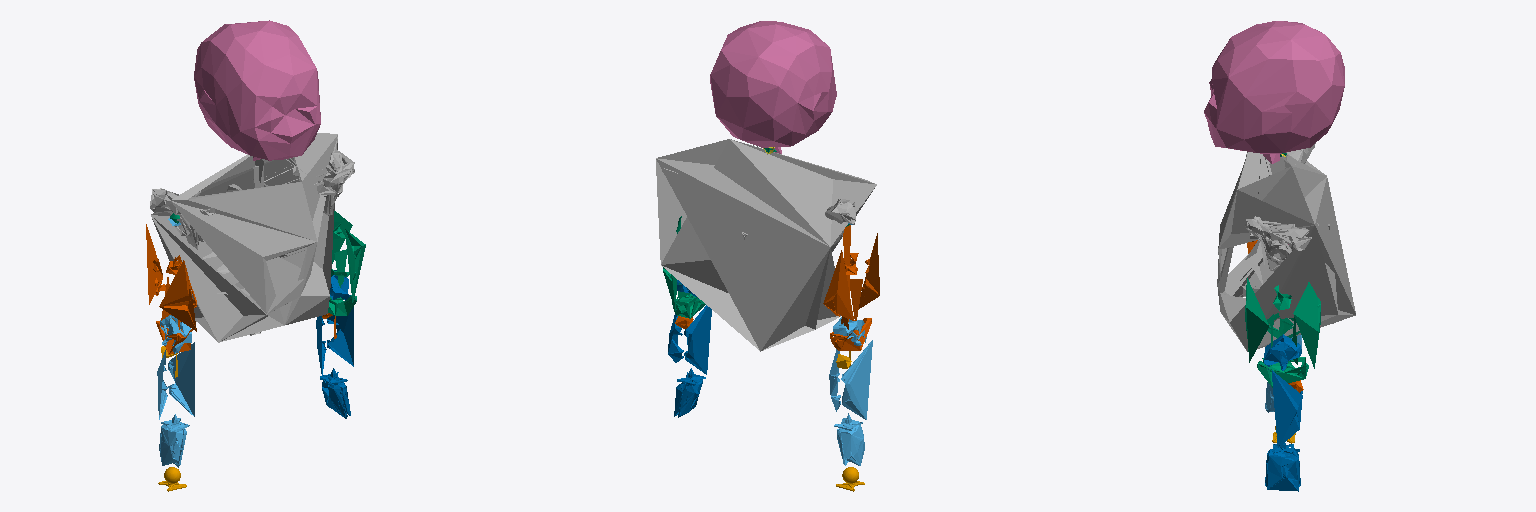
--- Facts derived from the render (not from the file) ---
The picture shows the robot from 3 angles, left to right: view 1: azimuth 30°, elevation 25°; view 2: azimuth 150°, elevation 25°; view 3: azimuth 270°, elevation 25°; orthographic projection.
Robot: upper_body — 20 links, 19 joints (19 revolute); root link torso; default pose: every joint at zero.
Links seen in each view (by area): view 1: torso, head, lowerarm_right, upperarm_right, lowerarm_left, upperarm_left; view 2: torso, head, lowerarm_right, upperarm_right, lowerarm_left, upperarm_left; view 3: torso, head, upperarm_left, lowerarm_left.
Link boxes in pixels (left/top/right/bottom): torso: left=150, top=133, right=354, bottom=342; head: left=194, top=20, right=320, bottom=160; lowerarm_right: left=157, top=315, right=194, bottom=467; upperarm_right: left=146, top=224, right=196, bottom=354; lowerarm_left: left=316, top=270, right=353, bottom=418; upperarm_left: left=328, top=211, right=365, bottom=315; torso: left=656, top=139, right=876, bottom=351; head: left=710, top=21, right=836, bottom=153; lowerarm_right: left=829, top=317, right=872, bottom=465; upperarm_right: left=823, top=225, right=879, bottom=350; lowerarm_left: left=668, top=280, right=711, bottom=417; upperarm_left: left=663, top=216, right=705, bottom=318; torso: left=1217, top=143, right=1355, bottom=351; head: left=1204, top=21, right=1344, bottom=163; upperarm_left: left=1245, top=278, right=1320, bottom=387; lowerarm_left: left=1264, top=334, right=1302, bottom=491.
Size in the robot's own frame: 0.567 by 0.3513 by 1.15 metres.
15 mesh visuals loaded from 20 distinct referenced files (15 binary STL); not drawn: 5 (reference not matched to a file when rendering).

The robot description file, URDF, robot "upper_body":
<robot name="upper_body">
  <joint name="shoulder_right_axis0" type="revolute">
    <parent link="torso" />
    <child link="shoulder_right_link1" />
    <origin rpy="0 0 0" xyz="-0.21017  0       0.69947" />
    <axis xyz="0.97437  0      -0.22495" />
    <limit effort="1.0" lower="-1.0" upper="0.3" velocity="10.0" />
  </joint>
  <joint name="shoulder_right_axis1" type="revolute">
    <parent link="shoulder_right_link1" />
    <child link="shoulder_right_link2" />
    <origin rpy="0 0 0" xyz="0 0 0" />
    <axis xyz="0 -1  0" />
    <limit effort="1.0" lower="-1.2" upper="0.0" velocity="10.0" />
  </joint>
  <joint name="shoulder_right_axis2" type="revolute">
    <parent link="shoulder_right_link2" />
    <child link="upperarm_right" />
    <origin rpy="0 0 0" xyz="0 0 0" />
    <axis xyz="-0.22495  0      -0.97437" />
    <limit effort="1.0" lower="0.0" upper="0.0" velocity="10.0" />
  </joint>
  <joint name="head_axis0" type="revolute">
    <parent link="torso" />
    <child link="head_link1" />
    <origin rpy="0 0 0" xyz="0      0      0.84075" />
    <axis xyz="1 0 0" />
    <limit effort="1.0" lower="-0.6" upper="0.6" velocity="10.0" />
  </joint>
  <joint name="head_axis1" type="revolute">
    <parent link="head_link1" />
    <child link="head_link2" />
    <origin rpy="0 0 0" xyz="0 0 0" />
    <axis xyz="0  0 -1" />
    <limit effort="1.0" lower="-0.56" upper="0.56" velocity="10.0" />
  </joint>
  <joint name="head_axis2" type="revolute">
    <parent link="head_link2" />
    <child link="head" />
    <origin rpy="0 0 0" xyz="0 0 0" />
    <axis xyz="0 1 0" />
    <limit effort="1.0" lower="-0.6" upper="0.6" velocity="10.0" />
  </joint>
  <joint name="wrist_right_axis0" type="revolute">
    <parent link="lowerarm_right" />
    <child link="wrist_right_link1" />
    <origin rpy="0 0 0" xyz="-0.00616  0      -0.21039" />
    <axis xyz="1 0 0" />
    <limit effort="1.0" lower="0.0" upper="0.0" velocity="10.0" />
  </joint>
  <joint name="wrist_right_axis1" type="revolute">
    <parent link="wrist_right_link1" />
    <child link="wrist_right_link2" />
    <origin rpy="0 0 0" xyz="0 0 0" />
    <axis xyz="0 -1  0" />
    <limit effort="1.0" lower="0.0" upper="0.0" velocity="10.0" />
  </joint>
  <joint name="wrist_right_axis2" type="revolute">
    <parent link="wrist_right_link2" />
    <child link="hand_right" />
    <origin rpy="0 0 0" xyz="0 0 0" />
    <axis xyz="0  0 -1" />
    <limit effort="1.0" lower="0.0" upper="0.0" velocity="10.0" />
  </joint>
  <joint name="wrist_left_axis0" type="revolute">
    <parent link="lowerarm_left" />
    <child link="wrist_left_link1" />
    <origin rpy="0 0 0" xyz="-0.00073  0      -0.21039" />
    <axis xyz="1 0 0" />
    <limit effort="1.0" lower="0.0" upper="0.0" velocity="10.0" />
  </joint>
  <joint name="wrist_left_axis1" type="revolute">
    <parent link="wrist_left_link1" />
    <child link="wrist_left_link2" />
    <origin rpy="0 0 0" xyz="0 0 0" />
    <axis xyz="0 1 0" />
    <limit effort="1.0" lower="0.0" upper="0.0" velocity="10.0" />
  </joint>
  <joint name="wrist_left_axis2" type="revolute">
    <parent link="wrist_left_link2" />
    <child link="hand_left" />
    <origin rpy="0 0 0" xyz="0 0 0" />
    <axis xyz="0 0 1" />
    <limit effort="1.0" lower="0.0" upper="0.0" velocity="10.0" />
  </joint>
  <joint name="shoulder_left_axis0" type="revolute">
    <parent link="torso" />
    <child link="shoulder_left_link1" />
    <origin rpy="0 0 0" xyz="0.21017 0      0.69947" />
    <axis xyz="0.97437 0      0.22495" />
    <limit effort="1.0" lower="-1.0" upper="0.3" velocity="10.0" />
  </joint>
  <joint name="shoulder_left_axis1" type="revolute">
    <parent link="shoulder_left_link1" />
    <child link="shoulder_left_link2" />
    <origin rpy="0 0 0" xyz="0 0 0" />
    <axis xyz="0 1 0" />
    <limit effort="1.0" lower="-1.2" upper="0.0" velocity="10.0" />
  </joint>
  <joint name="shoulder_left_axis2" type="revolute">
    <parent link="shoulder_left_link2" />
    <child link="upperarm_left" />
    <origin rpy="0 0 0" xyz="0 0 0" />
    <axis xyz="-0.22495  0       0.97437" />
    <limit effort="1.0" lower="0.0" upper="0.0" velocity="10.0" />
  </joint>
  <joint name="elbow_right_axis1" type="revolute">
    <parent link="elbow_right" />
    <child link="lowerarm_right" />
    <origin rpy="0 0 0" xyz="0.00042  0      -0.09" />
    <axis xyz="-1 0 0" />
    <limit effort="1.0" upper="0.73" lower="0.0" velocity="10.0" />
  </joint>
  <joint name="elbow_right_axis0" type="revolute">
    <parent link="upperarm_right" />
    <child link="elbow_right" />
    <origin rpy="0 0 0" xyz="-0.00106  0      -0.31208" />
    <axis xyz="-1  0  0" />
    <limit effort="1.0" lower="0.0" upper="0.73" velocity="10.0" />
  </joint>
  <joint name="elbow_left_axis0" type="revolute">
    <parent link="upperarm_left" />
    <child link="elbow_left" />
    <origin rpy="0 0 0" xyz="0.00906  0      -0.31208" />
    <axis xyz="-1  0  0" />
    <limit effort="1.0" lower="0.0" upper="0.73" velocity="10.0" />
  </joint>
  <joint name="elbow_left_axis1" type="revolute">
    <parent link="elbow_left" />
    <child link="lowerarm_left" />
    <origin rpy="0 0 0" xyz="-0.0015  0     -0.09" />
    <axis xyz="-1  0  0" />
    <limit effort="1.0" lower="0.0" upper="0.73" velocity="10.0" />
  </joint>

  <!--<joint name="camera_left" type="fixed">-->
  <!--<parent link="head" />-->
  <!--<child link="camera_left" />-->
  <!--<origin rpy="0 0 0" xyz="0.03 -0.137 0.203" />-->
  <!--<axis xyz="1  0  0" />-->
  <!--</joint>-->
  <!--<joint name="camera_right" type="fixed">-->
  <!--<parent link="head" />-->
  <!--<child link="camera_right" />-->
  <!--<origin rpy="0 0 0" xyz="-0.03 -0.137 0.203" />-->
  <!--<axis xyz="1  0  0" />-->
  <!--</joint>-->

  <!--<transmission name="tran1">-->
  <!--<type>transmission_interface/SimpleTransmission</type>-->
  <!--<joint name="head_axis0">-->
  <!--<hardwareInterface>hardware_interface/EffortJointInterface</hardwareInterface>-->
  <!--</joint>-->
  <!--<actuator name="motor1">-->
  <!--<hardwareInterface>hardware_interface/EffortJointInterface</hardwareInterface>-->
  <!--<mechanicalReduction>1</mechanicalReduction>-->
  <!--</actuator>-->
  <!--</transmission>-->

  <!--<transmission name="tran2">-->
  <!--<type>transmission_interface/SimpleTransmission</type>-->
  <!--<joint name="head_axis1">-->
  <!--<hardwareInterface>hardware_interface/EffortJointInterface</hardwareInterface>-->
  <!--</joint>-->
  <!--<actuator name="motor2">-->
  <!--<hardwareInterface>hardware_interface/EffortJointInterface</hardwareInterface>-->
  <!--<mechanicalReduction>1</mechanicalReduction>-->
  <!--</actuator>-->
  <!--</transmission>-->

  <!--<transmission name="tran3">-->
  <!--<type>transmission_interface/SimpleTransmission</type>-->
  <!--<joint name="head_axis2">-->
  <!--<hardwareInterface>hardware_interface/EffortJointInterface</hardwareInterface>-->
  <!--</joint>-->
  <!--<actuator name="motor3">-->
  <!--<hardwareInterface>hardware_interface/EffortJointInterface</hardwareInterface>-->
  <!--<mechanicalReduction>1</mechanicalReduction>-->
  <!--</actuator>-->
  <!--</transmission>-->
  <link name="hand_right">
    <inertial>
      <mass value="0.7514923831884623" />
      <origin rpy="0 0 0" xyz="-0.00506  0.00106 -0.06163" />
      <inertia ixx="0.00329642178906037" ixy="0.0002152027426110002" ixz="0.00414519741777471" iyy="0.040151355516369454" iyz="5.779025691769195e-06" izz="0.03751229870240237" />
    </inertial>
    <collision name="hand_right_collision">
      <origin rpy="0 0 0" xyz="-0.00506  0.00106 -0.06163" />
      <geometry>
        <mesh filename="package://robots/upper_body/meshes/collisions/hand_right.stl" scale="0.001 0.001 0.001" />
      </geometry>
    </collision>
    <visual name="hand_right_visual">
      <origin rpy="0 0 0" xyz="-0.00506  0.00106 -0.06163" />
      <geometry>
        <mesh filename="package://robots/upper_body/meshes/visuals/hand_right.stl" scale="0.001 0.001 0.001" />
      </geometry>
    </visual>
  </link>
  <link name="lowerarm_right">
    <inertial>
      <mass value="0.5917876637421493" />
      <origin rpy="0 0 0" xyz="-0.00733 -0.00117 -0.11185" />
      <inertia ixx="0.025266093053321618" ixy="-0.00014339118944252453" ixz="0.02401182953031049" iyy="0.05347049319194963" iyz="0.00020339489462638876" izz="0.02883407069587139" />
    </inertial>
    <collision name="lowerarm_right_collision">
      <origin rpy="0 0 0" xyz="-0.00733 -0.00117 -0.11185" />
      <geometry>
        <mesh filename="package://robots/upper_body/meshes/collisions/lowerarm_right.stl" scale="0.001 0.001 0.001" />
      </geometry>
    </collision>
    <visual name="lowerarm_right_visual">
      <origin rpy="0 0 0" xyz="-0.00733 -0.00117 -0.11185" />
      <geometry>
        <mesh filename="package://robots/upper_body/meshes/visuals/lowerarm_right.stl" scale="0.001 0.001 0.001" />
      </geometry>
    </visual>
  </link>
  <link name="upperarm_left">
    <inertial>
      <mass value="0.6793810152872208" />
      <origin rpy="0 0 0" xyz="0.01104  0.00134 -0.18587" />
      <inertia ixx="0.18978590848989427" ixy="-0.00020381676007052703" ixz="-0.0771493215460898" iyy="0.22219285048351112" iyz="-0.00048014462260051406" izz="0.034641097561777544" />
    </inertial>
    <collision name="upperarm_left_collision">
      <origin rpy="0 0 0" xyz="0.01104  0.00134 -0.18587" />
      <geometry>
        <mesh filename="package://robots/upper_body/meshes/collisions/upperarm_left.stl" scale="0.001 0.001 0.001" />
      </geometry>
    </collision>
    <visual name="upperarm_left_visual">
      <origin rpy="0 0 0" xyz="0.01104  0.00134 -0.18587" />
      <geometry>
        <mesh filename="package://robots/upper_body/meshes/visuals/upperarm_left.stl" scale="0.001 0.001 0.001" />
      </geometry>
    </visual>
  </link>
  <link name="hand_left">
    <inertial>
      <mass value="0.7514925489985023" />
      <origin rpy="0 0 0" xyz="0.00506  0.00106 -0.06163" />
      <inertia ixx="0.003296422481405665" ixy="-0.000215224109805972" ixz="-0.004145710073447077" iyy="0.0401603001987594" iyz="5.779043768172425e-06" izz="0.03752124270591726" />
    </inertial>
    <collision name="hand_left_collision">
      <origin rpy="0 0 0" xyz="0.00506  0.00106 -0.06163" />
      <geometry>
        <mesh filename="package://robots/upper_body/meshes/collisions/hand_left.stl" scale="0.001 0.001 0.001" />
      </geometry>
    </collision>
    <visual name="hand_left_visual">
      <origin rpy="0 0 0" xyz="0.00506  0.00106 -0.06163" />
      <geometry>
        <mesh filename="package://robots/upper_body/meshes/visuals/hand_left.stl" scale="0.001 0.001 0.001" />
      </geometry>
    </visual>
  </link>
  <link name="lowerarm_left">
    <inertial>
      <mass value="0.4831137845041076" />
      <origin rpy="0 0 0" xyz="0.00049 -0.00129 -0.09306" />
      <inertia ixx="0.024158444781384562" ixy="0.00012820759060466918" ixz="-0.02159885035361162" iyy="0.04720250767947627" iyz="0.00019696815911384214" izz="0.02362176591875769" />
    </inertial>
    <collision name="lowerarm_left_collision">
      <origin rpy="0 0 0" xyz="0.00049 -0.00129 -0.09306" />
      <geometry>
        <mesh filename="package://robots/upper_body/meshes/collisions/lowerarm_left.stl" scale="0.001 0.001 0.001" />
      </geometry>
    </collision>
    <visual name="lowerarm_left_visual">
      <origin rpy="0 0 0" xyz="0.00049 -0.00129 -0.09306" />
      <geometry>
        <mesh filename="package://robots/upper_body/meshes/visuals/lowerarm_left.stl" scale="0.001 0.001 0.001" />
      </geometry>
    </visual>
  </link>
  <link name="upperarm_right">
    <inertial>
      <mass value="0.6628658945679491" />
      <origin rpy="0 0 0" xyz="-0.01115  0.00138 -0.17499" />
      <inertia ixx="0.18968787262556008" ixy="0.00020382119259871294" ixz="0.07687427496899825" iyy="0.22131713020188437" iyz="-0.00048015612471741167" izz="0.033863143154471184" />
    </inertial>
    <collision name="upperarm_right_collision">
      <origin rpy="0 0 0" xyz="-0.01115  0.00138 -0.17499" />
      <geometry>
        <mesh filename="package://robots/upper_body/meshes/collisions/upperarm_right.stl" scale="0.001 0.001 0.001" />
      </geometry>
    </collision>
    <visual name="upperarm_right_visual">
      <origin rpy="0 0 0" xyz="-0.01115  0.00138 -0.17499" />
      <geometry>
        <mesh filename="package://robots/upper_body/meshes/visuals/upperarm_right.stl" scale="0.001 0.001 0.001" />
      </geometry>
    </visual>
  </link>
  <link name="head">
    <inertial>
      <mass value="2.1598514080281315" />
      <origin rpy="0 0 0" xyz="-0.0002  -0.01814  0.1557" />
      <inertia ixx="2.1559773436970113" ixy="2.323405580889926e-05" ixz="0.0004164361828475648" iyy="2.1576901383913416" iyz="0.03738915961197302" izz="0.02811964967375591" />
    </inertial>
    <collision name="head_collision">
      <origin rpy="0 0 0" xyz="-0.0002  -0.01814  0.1557" />
      <geometry>
        <mesh filename="package://robots/upper_body/meshes/collisions/head.stl" scale="0.001 0.001 0.001" />
      </geometry>
    </collision>
    <visual name="head_visual">
      <origin rpy="0 0 0" xyz="-0.0002  -0.01814  0.1557" />
      <geometry>
        <mesh filename="package://robots/upper_body/meshes/visuals/head.stl" scale="0.001 0.001 0.001" />
      </geometry>
    </visual>
  </link>
  <link name="torso">
    <inertial>
      <mass value="25.160471303342216" />
      <origin rpy="0 0 0" xyz="0.00776 0.00282 0.62658" />
      <inertia ixx="10.398585859477636" ixy="0.00015013373897767912" ixz="-0.10586365499644151" iyy="10.58255768903264" iyz="-0.05807739632925058" izz="0.4658890640245697" />
    </inertial>
    <collision name="torso_collision">
      <origin rpy="0 0 0" xyz="0.00776 0.00282 0.62658" />
      <geometry>
        <mesh filename="package://robots/upper_body/meshes/collisions/torso.stl" scale="0.001 0.001 0.001" />
      </geometry>
    </collision>
    <visual name="torso_visual">
      <origin rpy="0 0 0" xyz="0.00776 0.00282 0.62658" />
      <geometry>
        <mesh filename="package://robots/upper_body/meshes/visuals/torso.stl" scale="0.001 0.001 0.001" />
      </geometry>
    </visual>
  </link>
  <link name="elbow_right">
    <inertial>
      <mass value="0.035913480602683866" />
      <origin rpy="0 0 0" xyz="-0.00474  0.03025 -0.04463" />
      <inertia ixx="0.004274453667256835" ixy="0.00023607548638453937" ixz="0.002658593224303575" iyy="0.005909490039237715" iyz="-0.0003724752910205753" izz="0.0017216986311418606" />
    </inertial>
    <collision name="elbow_right_collision">
      <origin rpy="0 0 0" xyz="-0.00474  0.03025 -0.04463" />
      <geometry>
        <mesh filename="package://robots/upper_body/meshes/collisions/elbow_right.stl" scale="0.001 0.001 0.001" />
      </geometry>
    </collision>
    <visual name="elbow_right_visual">
      <origin rpy="0 0 0" xyz="-0.00474  0.03025 -0.04463" />
      <geometry>
        <mesh filename="package://robots/upper_body/meshes/visuals/elbow_right.stl" scale="0.001 0.001 0.001" />
      </geometry>
    </visual>
  </link>
  <link name="shoulder_right_link1">
    <inertial>
      <mass value="0.09036362653441246" />
      <origin rpy="0 0 0" xyz="0 0 0" />
      <inertia ixx="0.04421931675263708" ixy="3.626265954181918e-18" ixz="0.01328454638864534" iyy="0.04821095418145326" iyz="-1.2045919817182948e-17" izz="0.003998729023415919" />
    </inertial>
    <collision name="shoulder_right_link1_collision">
      <origin rpy="0 0 0" xyz="0 0 0" />
      <geometry>
        <mesh filename="package://robots/upper_body/meshes/collisions/shoulder_right_link1.stl" scale="0.001 0.001 0.001" />
      </geometry>
    </collision>
    <visual name="shoulder_right_link1_visual">
      <origin rpy="0 0 0" xyz="0 0 0" />
      <geometry>
        <mesh filename="package://robots/upper_body/meshes/visuals/shoulder_right_link1.stl" scale="0.001 0.001 0.001" />
      </geometry>
    </visual>
  </link>
  <link name="shoulder_right_link2">
    <inertial>
      <mass value="0.007113171768014983" />
      <origin rpy="0 0 0" xyz="0 0 0" />
      <inertia ixx="0.0034803651538984483" ixy="2.808517307606451e-19" ixz="0.0010457223104764577" iyy="0.0037945756803650283" iyz="-9.325873406851316e-19" izz="0.0003143130585953205" />
    </inertial>
    <collision name="shoulder_right_link2_collision">
      <origin rpy="0 0 0" xyz="0 0 0" />
      <geometry>
        <mesh filename="package://robots/upper_body/meshes/collisions/shoulder_right_link2.stl" scale="0.001 0.001 0.001" />
      </geometry>
    </collision>
    <visual name="shoulder_right_link2_visual">
      <origin rpy="0 0 0" xyz="0 0 0" />
      <geometry>
        <mesh filename="package://robots/upper_body/meshes/visuals/shoulder_right_link2.stl" scale="0.001 0.001 0.001" />
      </geometry>
    </visual>
  </link>
  <link name="wrist_right_link1">
    <inertial>
      <mass value="0.03806502884740437" />
      <origin rpy="0 0 0" xyz="0 0 0" />
      <inertia ixx="0.00028979287111819324" ixy="1.061650767297806e-18" ixz="0.0007185410043660903" iyy="0.0020817946848411925" iyz="-4.250072516143178e-19" izz="0.0017936804814951703" />
    </inertial>
    <collision name="wrist_right_link1_collision">
      <origin rpy="0 0 0" xyz="0 0 0" />
      <geometry>
        <mesh filename="package://robots/upper_body/meshes/collisions/wrist_right_link1.stl" scale="0.001 0.001 0.001" />
      </geometry>
    </collision>
    <visual name="wrist_right_link1_visual">
      <origin rpy="0 0 0" xyz="0 0 0" />
      <geometry>
        <mesh filename="package://robots/upper_body/meshes/visuals/wrist_right_link1.stl" scale="0.001 0.001 0.001" />
      </geometry>
    </visual>
  </link>
  <link name="wrist_right_link2">
    <inertial>
      <mass value="0.002996372533177606" />
      <origin rpy="0 0 0" xyz="0 0 0" />
      <inertia ixx="2.2703814321141537e-05" ixy="8.278967789099312e-20" ixz="5.656153678683516e-05" iyy="0.0001637651815821358" iyz="-3.315490243460673e-20" izz="0.000141085637878513" />
    </inertial>
    <collision name="wrist_right_link2_collision">
      <origin rpy="0 0 0" xyz="0 0 0" />
      <geometry>
        <mesh filename="package://robots/upper_body/meshes/collisions/wrist_right_link2.stl" scale="0.001 0.001 0.001" />
      </geometry>
    </collision>
    <visual name="wrist_right_link2_visual">
      <origin rpy="0 0 0" xyz="0 0 0" />
      <geometry>
        <mesh filename="package://robots/upper_body/meshes/visuals/wrist_right_link2.stl" scale="0.001 0.001 0.001" />
      </geometry>
    </visual>
  </link>
  <link name="elbow_left">
    <inertial>
      <mass value="0.03591352060165305" />
      <origin rpy="0 0 0" xyz="-0.00325  0.03025 -0.04463" />
      <inertia ixx="0.004274458918966475" ixy="-0.00023607544149196254" ixz="-0.002658629464100515" iyy="0.0059095370580604595" iyz="-0.000372475167922204" izz="0.0017217402510529421" />
    </inertial>
    <collision name="elbow_left_collision">
      <origin rpy="0 0 0" xyz="-0.00325  0.03025 -0.04463" />
      <geometry>
        <mesh filename="package://robots/upper_body/meshes/collisions/elbow_left.stl" scale="0.001 0.001 0.001" />
      </geometry>
    </collision>
    <visual name="elbow_left_visual">
      <origin rpy="0 0 0" xyz="-0.00325  0.03025 -0.04463" />
      <geometry>
        <mesh filename="package://robots/upper_body/meshes/visuals/elbow_left.stl" scale="0.001 0.001 0.001" />
      </geometry>
    </visual>
  </link>
  <link name="shoulder_left_link1">
    <inertial>
      <mass value="0.09036362653441248" />
      <origin rpy="0 0 0" xyz="0 0 0" />
      <inertia ixx="0.044219316752637086" ixy="-3.6290415117434806e-18" ixz="-0.013284546388645343" iyy="0.04821095418145326" iyz="-1.2079226507921704e-17" izz="0.003998729023415921" />
    </inertial>
    <collision name="shoulder_left_link1_collision">
      <origin rpy="0 0 0" xyz="0 0 0" />
      <geometry>
        <mesh filename="package://robots/upper_body/meshes/collisions/shoulder_left_link1.stl" scale="0.001 0.001 0.001" />
      </geometry>
    </collision>
    <visual name="shoulder_left_link1_visual">
      <origin rpy="0 0 0" xyz="0 0 0" />
      <geometry>
        <mesh filename="package://robots/upper_body/meshes/visuals/shoulder_left_link1.stl" scale="0.001 0.001 0.001" />
      </geometry>
    </visual>
  </link>
  <link name="shoulder_left_link2">
    <inertial>
      <mass value="0.007113171768014981" />
      <origin rpy="0 0 0" xyz="0 0 0" />
      <inertia ixx="0.003480365153898447" ixy="-2.8206603719382882e-19" ixz="-0.0010457223104764577" iyy="0.003794575680365027" iyz="-9.370976217226712e-19" izz="0.0003143130585953206" />
    </inertial>
    <collision name="shoulder_left_link2_collision">
      <origin rpy="0 0 0" xyz="0 0 0" />
      <geometry>
        <mesh filename="package://robots/upper_body/meshes/collisions/shoulder_left_link2.stl" scale="0.001 0.001 0.001" />
      </geometry>
    </collision>
    <visual name="shoulder_left_link2_visual">
      <origin rpy="0 0 0" xyz="0 0 0" />
      <geometry>
        <mesh filename="package://robots/upper_body/meshes/visuals/shoulder_left_link2.stl" scale="0.001 0.001 0.001" />
      </geometry>
    </visual>
  </link>
  <link name="wrist_left_link1">
    <inertial>
      <mass value="0.03806502884740436" />
      <origin rpy="0 0 0" xyz="0 0 0" />
      <inertia ixx="0.00028979287111817464" ixy="-8.971989817752046e-19" ixz="-0.0007186296796101484" iyy="0.002082237014513603" iyz="-3.590877595271991e-19" izz="0.0017941228111675988" />
    </inertial>
    <collision name="wrist_left_link1_collision">
      <origin rpy="0 0 0" xyz="0 0 0" />
      <geometry>
        <mesh filename="package://robots/upper_body/meshes/collisions/wrist_left_link1.stl" scale="0.001 0.001 0.001" />
      </geometry>
    </collision>
    <visual name="wrist_left_link1_visual">
      <origin rpy="0 0 0" xyz="0 0 0" />
      <geometry>
        <mesh filename="package://robots/upper_body/meshes/visuals/wrist_left_link1.stl" scale="0.001 0.001 0.001" />
      </geometry>
    </visual>
  </link>
  <link name="wrist_left_link2">
    <inertial>
      <mass value="0.002996372533177606" />
      <origin rpy="0 0 0" xyz="0 0 0" />
      <inertia ixx="2.2703814321140076e-05" ixy="-7.034303695085953e-20" ixz="-5.656851705386013e-05" iyy="0.00016380000053594067" iyz="-2.816757244117341e-20" izz="0.00014112045683231935" />
    </inertial>
    <collision name="wrist_left_link2_collision">
      <origin rpy="0 0 0" xyz="0 0 0" />
      <geometry>
        <mesh filename="package://robots/upper_body/meshes/collisions/wrist_left_link2.stl" scale="0.001 0.001 0.001" />
      </geometry>
    </collision>
    <visual name="wrist_left_link2_visual">
      <origin rpy="0 0 0" xyz="0 0 0" />
      <geometry>
        <mesh filename="package://robots/upper_body/meshes/visuals/wrist_left_link2.stl" scale="0.001 0.001 0.001" />
      </geometry>
    </visual>
  </link>
  <link name="head_link1">
    <inertial>
      <mass value="0.03806502884740436" />
      <origin rpy="0 0 0" xyz="0 0 0" />
      <inertia ixx="0.026908346370427178" ixy="-2.168404344971009e-22" ixz="-2.4424906541753445e-19" iyy="0.026908346370427178" iyz="5.601075159233915e-18" izz="1.6786677721705307e-06" />
    </inertial>
    <collision name="head_link1_collision">
      <origin rpy="0 0 0" xyz="0 0 0" />
      <geometry>
        <mesh filename="package://robots/upper_body/meshes/collisions/head_link1.stl" scale="0.001 0.001 0.001" />
      </geometry>
    </collision>
    <visual name="head_link1_visual">
      <origin rpy="0 0 0" xyz="0 0 0" />
      <geometry>
        <mesh filename="package://robots/upper_body/meshes/visuals/head_link1.stl" scale="0.001 0.001 0.001" />
      </geometry>
    </visual>
  </link>
  <link name="head_link2">
    <inertial>
      <mass value="0.002996372533177606" />
      <origin rpy="0 0 0" xyz="0 0 0" />
      <inertia ixx="0.002118041844878994" ixy="3.404394821608228e-24" ixz="-1.78481526433294e-20" iyy="0.002118041844878994" iyz="4.440892098500626e-19" izz="2.427061751873877e-08" />
    </inertial>
    <collision name="head_link2_collision">
      <origin rpy="0 0 0" xyz="0 0 0" />
      <geometry>
        <mesh filename="package://robots/upper_body/meshes/collisions/head_link2.stl" scale="0.001 0.001 0.001" />
      </geometry>
    </collision>
    <visual name="head_link2_visual">
      <origin rpy="0 0 0" xyz="0 0 0" />
      <geometry>
        <mesh filename="package://robots/upper_body/meshes/visuals/head_link2.stl" scale="0.001 0.001 0.001" />
      </geometry>
    </visual>
  </link>

  <!--<link name="camera_left">-->
  <!--<inertial>-->
  <!--<mass value="0.002996372533177606" />-->
  <!--<origin rpy="0 0 0" xyz="0 0 0" />-->
  <!--<inertia ixx="0.002118041844878994" ixy="3.404394821608228e-24" ixz="-1.78481526433294e-20" iyy="0.002118041844878994" iyz="4.440892098500626e-19" izz="2.427061751873877e-08" />-->
  <!--</inertial>-->
  <!--<collision name="head_link2_collision">-->
  <!--<origin rpy="0 0 0" xyz="0 0 0" />-->
  <!--<geometry>-->
  <!--<mesh filename="package://robots/upper_body/meshes/collisions/head_link2.stl" scale="0.001 0.001 0.001" />-->
  <!--</geometry>-->
  <!--</collision>-->
  <!--<visual name="head_link2_visual">-->
  <!--<origin rpy="0 0 0" xyz="0 0 0" />-->
  <!--<geometry>-->
  <!--<mesh filename="package://robots/upper_body/meshes/visuals/head_link2.stl" scale="0.001 0.001 0.001" />-->
  <!--</geometry>-->
  <!--</visual>-->
  <!--</link>-->

  <!--<link name="camera_right">-->
  <!--<inertial>-->
  <!--<mass value="0.002996372533177606" />-->
  <!--<origin rpy="0 0 0" xyz="0 0 0" />-->
  <!--<inertia ixx="0.002118041844878994" ixy="3.404394821608228e-24" ixz="-1.78481526433294e-20" iyy="0.002118041844878994" iyz="4.440892098500626e-19" izz="2.427061751873877e-08" />-->
  <!--</inertial>-->
  <!--<collision name="head_link2_collision">-->
  <!--<origin rpy="0 0 0" xyz="0 0 0" />-->
  <!--<geometry>-->
  <!--<mesh filename="package://robots/upper_body/meshes/collisions/head_link2.stl" scale="0.001 0.001 0.001" />-->
  <!--</geometry>-->
  <!--</collision>-->
  <!--<visual name="head_link2_visual">-->
  <!--<origin rpy="0 0 0" xyz="0 0 0" />-->
  <!--<geometry>-->
  <!--<mesh filename="package://robots/upper_body/meshes/visuals/head_link2.stl" scale="0.001 0.001 0.001" />-->
  <!--</geometry>-->
  <!--</visual>-->
  <!--</link>-->

</robot>
